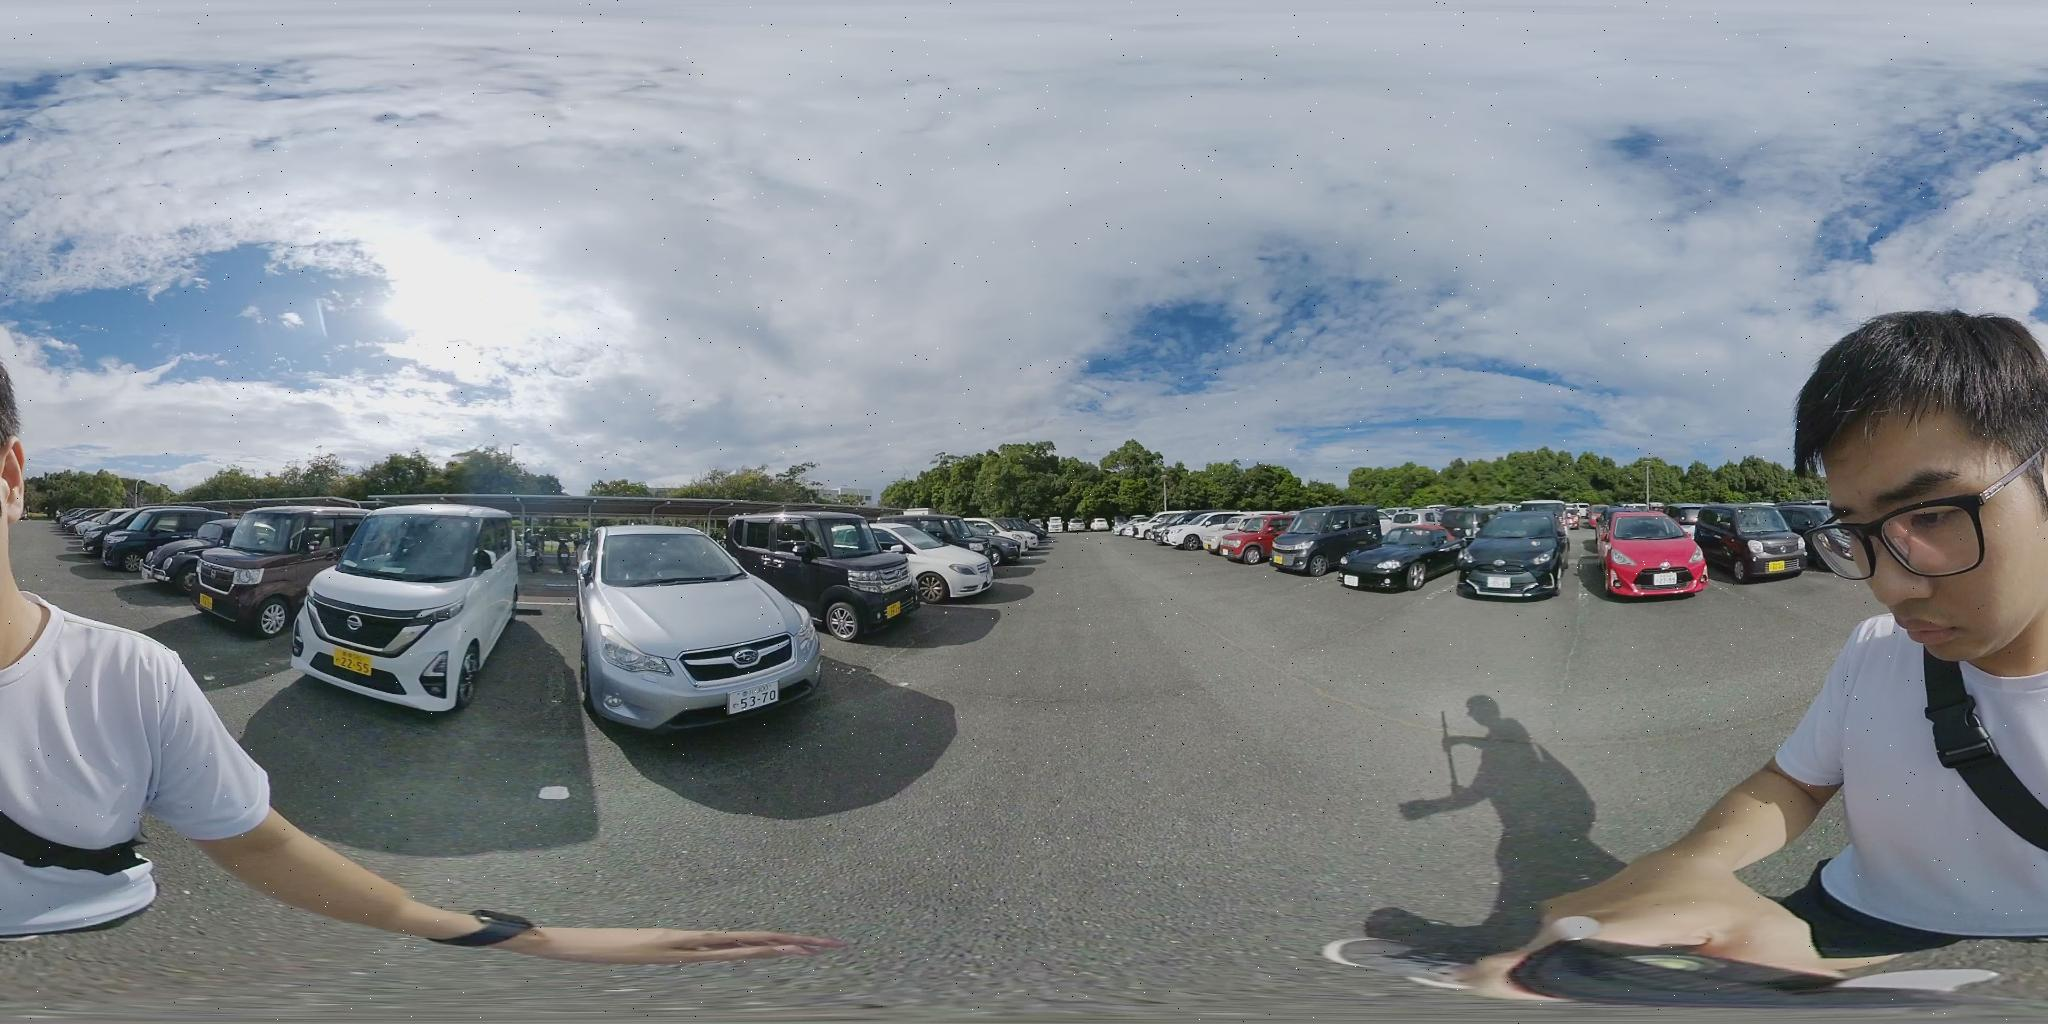car: (577, 522, 827, 728), (296, 498, 529, 714), (721, 513, 998, 639), (154, 505, 371, 639), (1600, 509, 1716, 600), (94, 507, 240, 573), (1688, 505, 1810, 580), (1459, 515, 1561, 598), (1341, 528, 1463, 590), (1273, 507, 1381, 571), (1155, 513, 1226, 550), (982, 520, 1045, 562)
